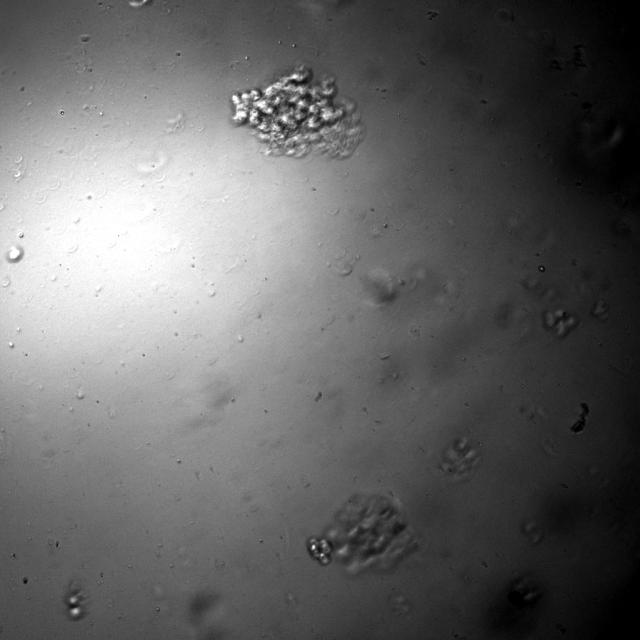organoid: (232, 65, 362, 157), (306, 493, 417, 574), (438, 436, 481, 482), (542, 307, 579, 339), (64, 582, 86, 620), (571, 403, 589, 434), (6, 245, 23, 262), (538, 264, 545, 272)
